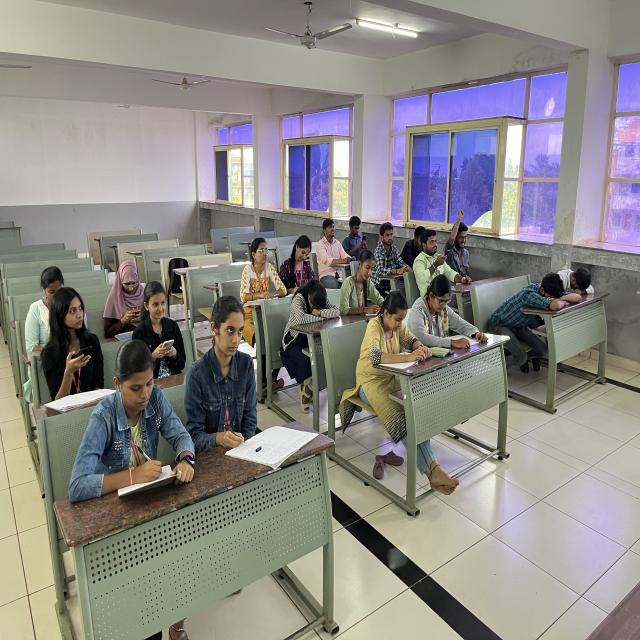Reading: (352, 288, 433, 398), (419, 268, 494, 354)
Sleeping: (279, 278, 341, 340), (557, 258, 602, 300)
Using Phone: (27, 268, 109, 398), (134, 276, 194, 372), (108, 240, 153, 329), (341, 204, 374, 260)
Writing: (71, 334, 197, 498), (196, 294, 294, 456)
